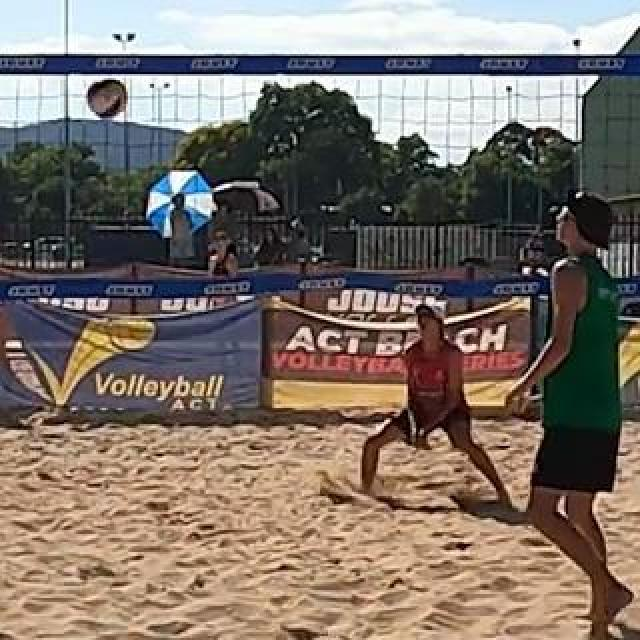volleyball: (88, 79, 128, 119)
